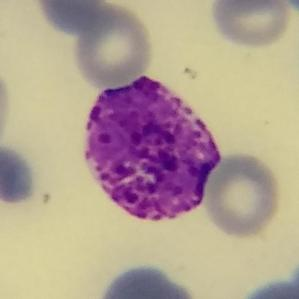Basophil: (70, 64, 230, 236)
Platelets: (278, 0, 298, 15)
RBC: (70, 0, 156, 89), (201, 150, 284, 240), (207, 0, 295, 50), (92, 260, 204, 299), (32, 0, 115, 36), (0, 141, 39, 208), (235, 275, 298, 299), (0, 54, 14, 150), (210, 0, 290, 11), (287, 250, 299, 299), (276, 0, 299, 17)
